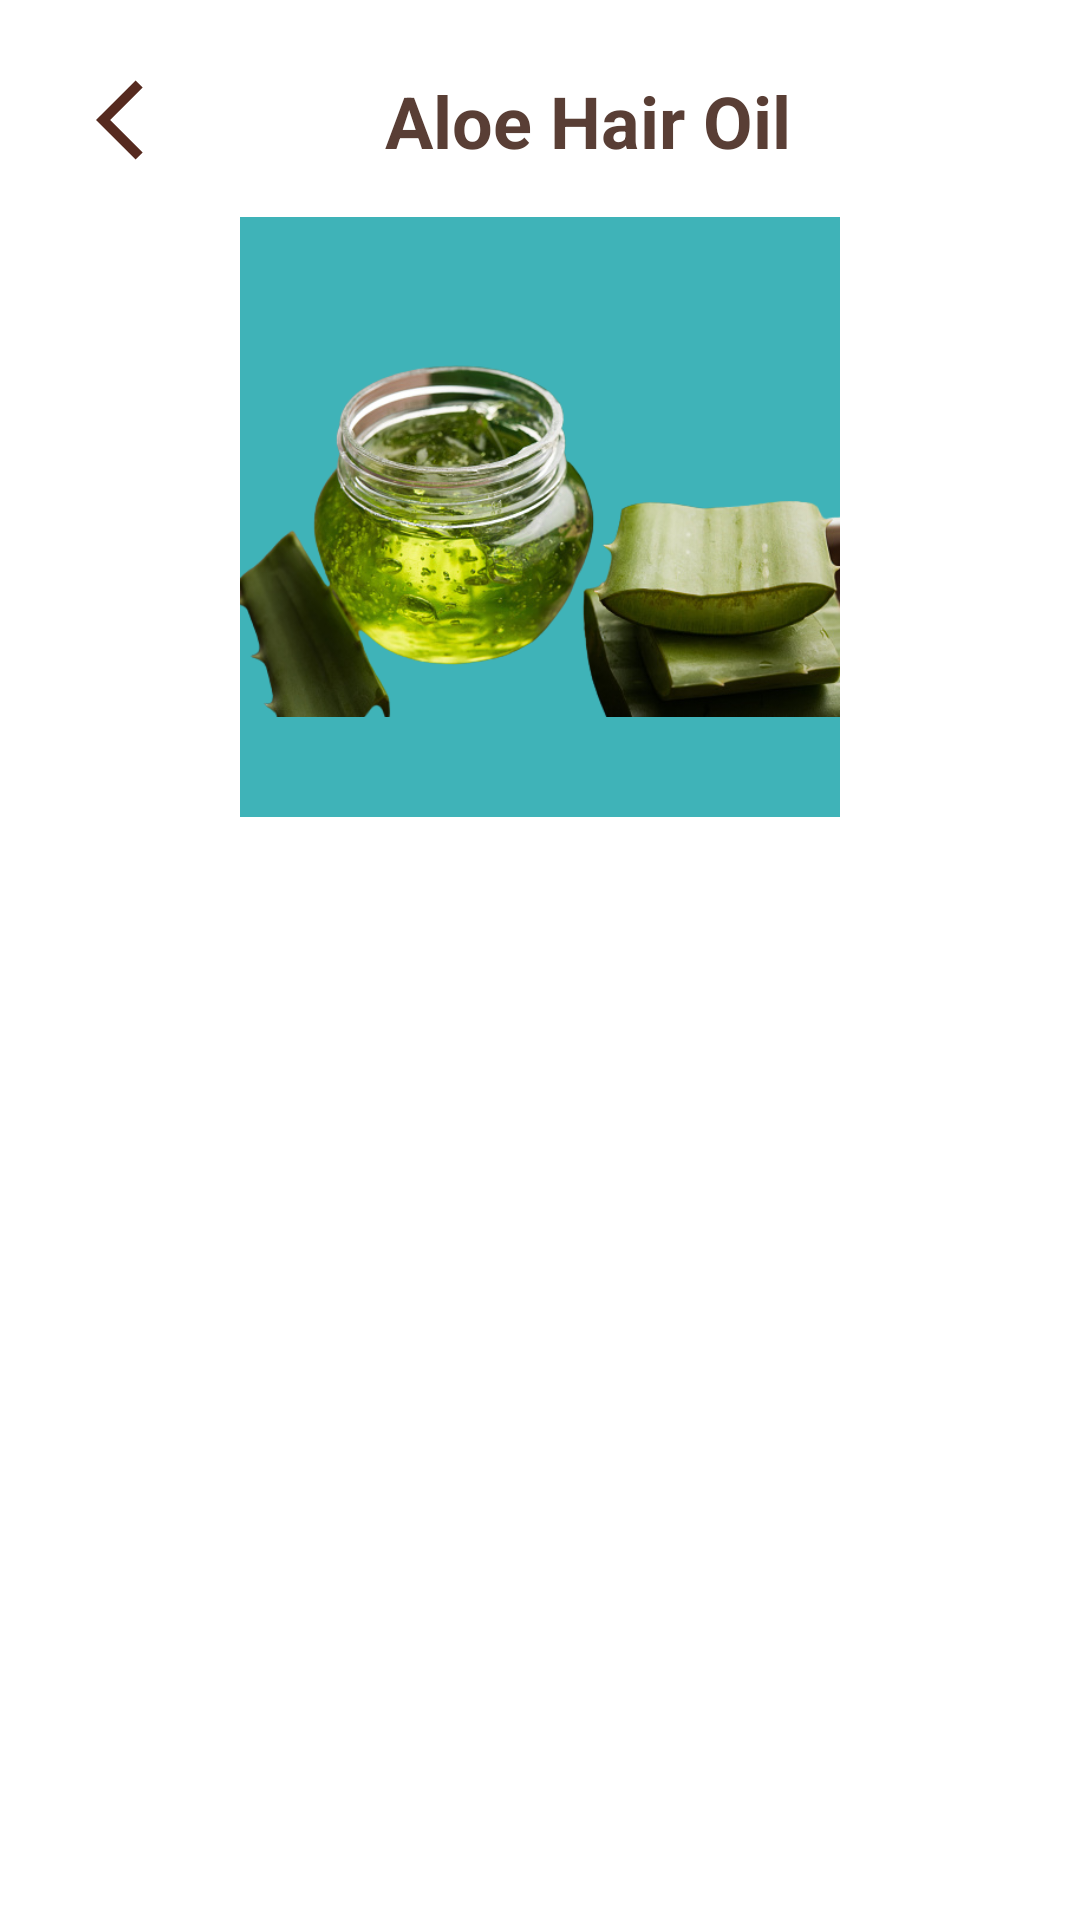

Icon click points for this 1080×1920 phone screenshot, format (x=x, y=y):
arrow back: (x=119, y=120)
